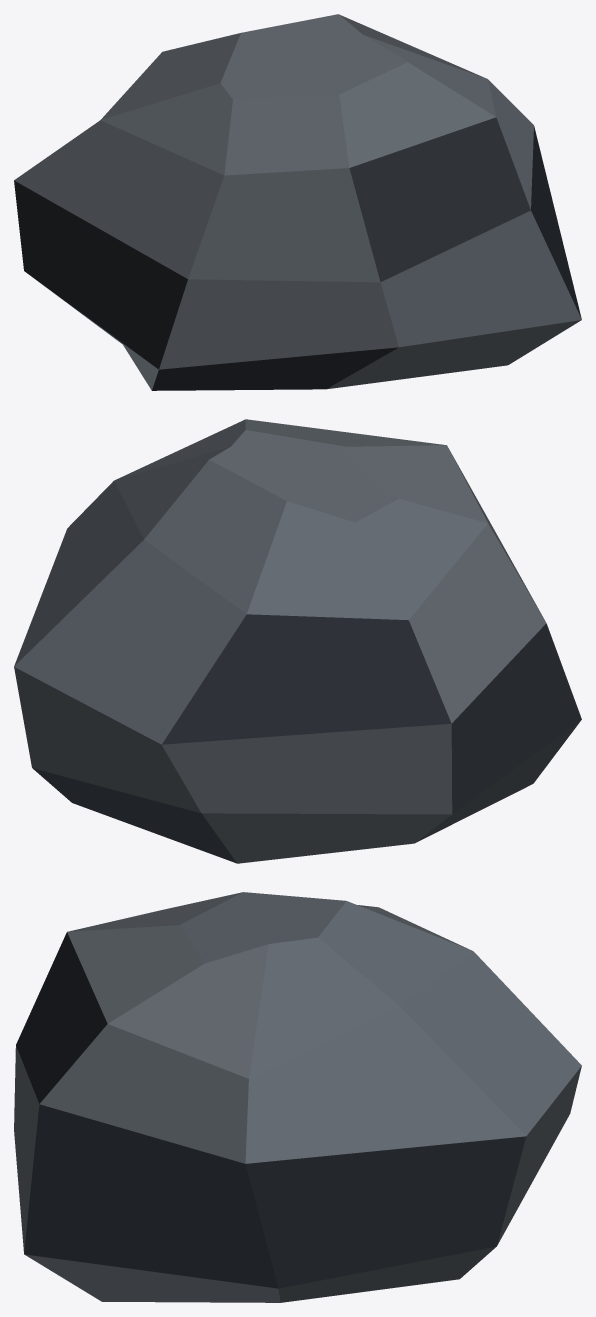
The model's file is stone.glb.
The picture shows the model from 3 angles, top to bottom: view 1: azimuth 30°, elevation 25°; view 2: azimuth 150°, elevation 25°; view 3: azimuth 270°, elevation 25°; orthographic projection. The views are drawn at different scales.
Visible parts, largest first — view 1: stone; view 2: stone; view 3: stone.
Boxes of the visible parts, x1,y1,x2,y2 form: stone: (14, 14, 581, 390); stone: (14, 419, 581, 863); stone: (14, 892, 581, 1302).
Size of the model in its own units: 0.3073 by 0.2 by 0.3158.
Materials: 1 (1 with a texture image).
